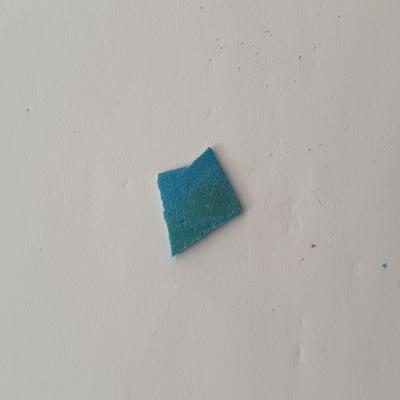plastic: (154, 143, 251, 263)
